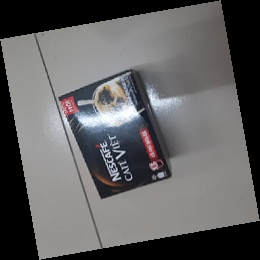CF Viet: (56, 68, 173, 201)
